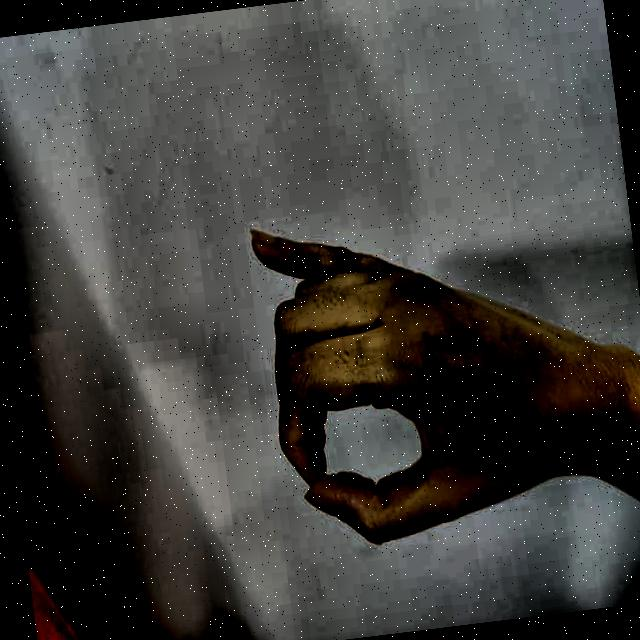Ou: (222, 172, 587, 590)
